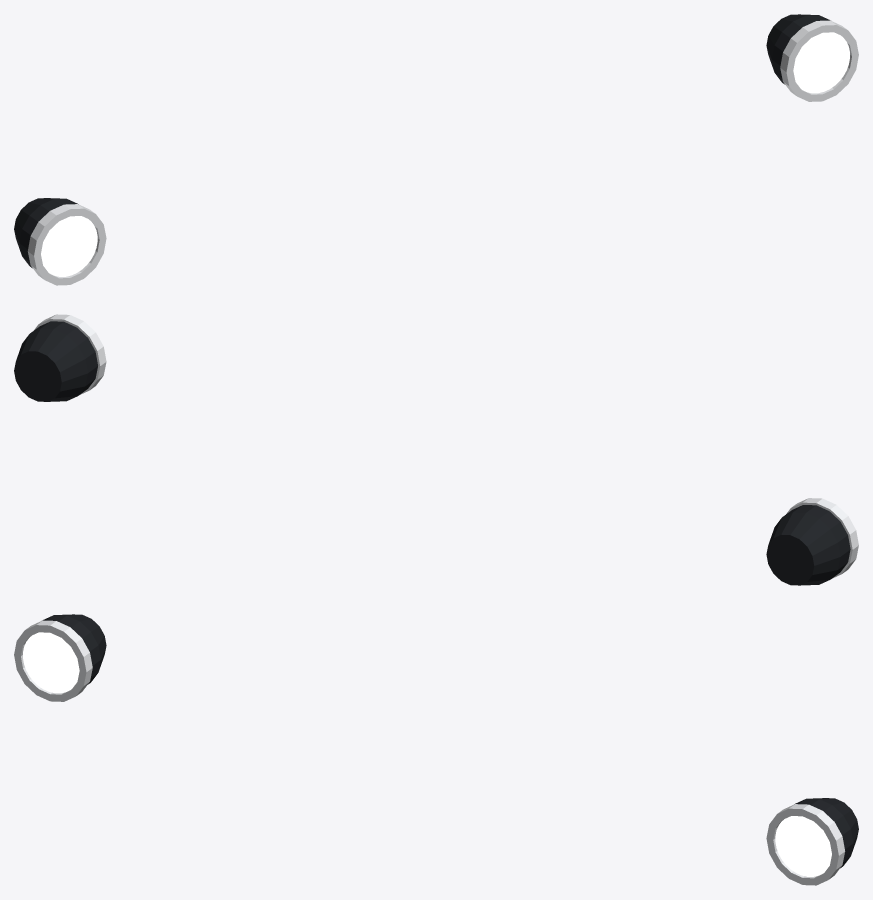
Rendered from brute_500.glb.
3 renders of one model, top to bottom at view 1: azimuth 30°, elevation 25°; view 2: azimuth 150°, elevation 25°; view 3: azimuth 330°, elevation 25°, orthographic.
Visible parts, largest first — view 1: model; view 2: model; view 3: model.
Part boxes in pixels (x1=…): model: x1=14, y1=14, x2=858, y2=285; model: x1=14, y1=314, x2=858, y2=585; model: x1=14, y1=614, x2=858, y2=885.
Size of the model in its own units: 1.21 by 0.106 by 0.082.
3 materials, 1 textured.
